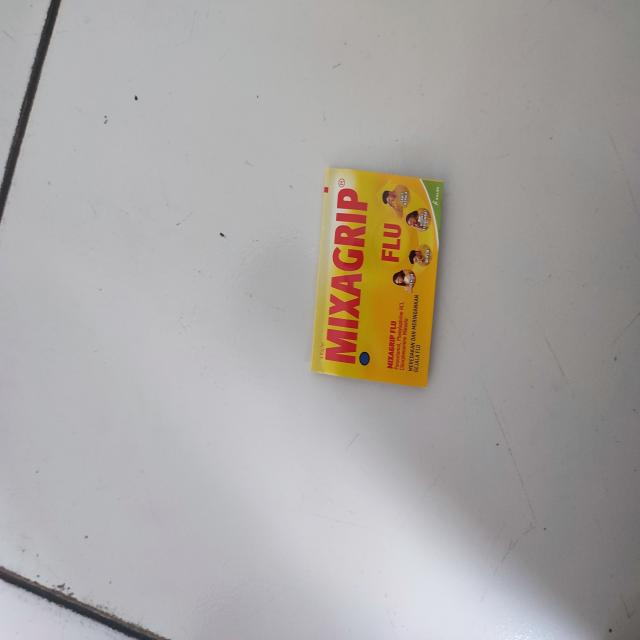B3: (311, 165, 443, 388)
